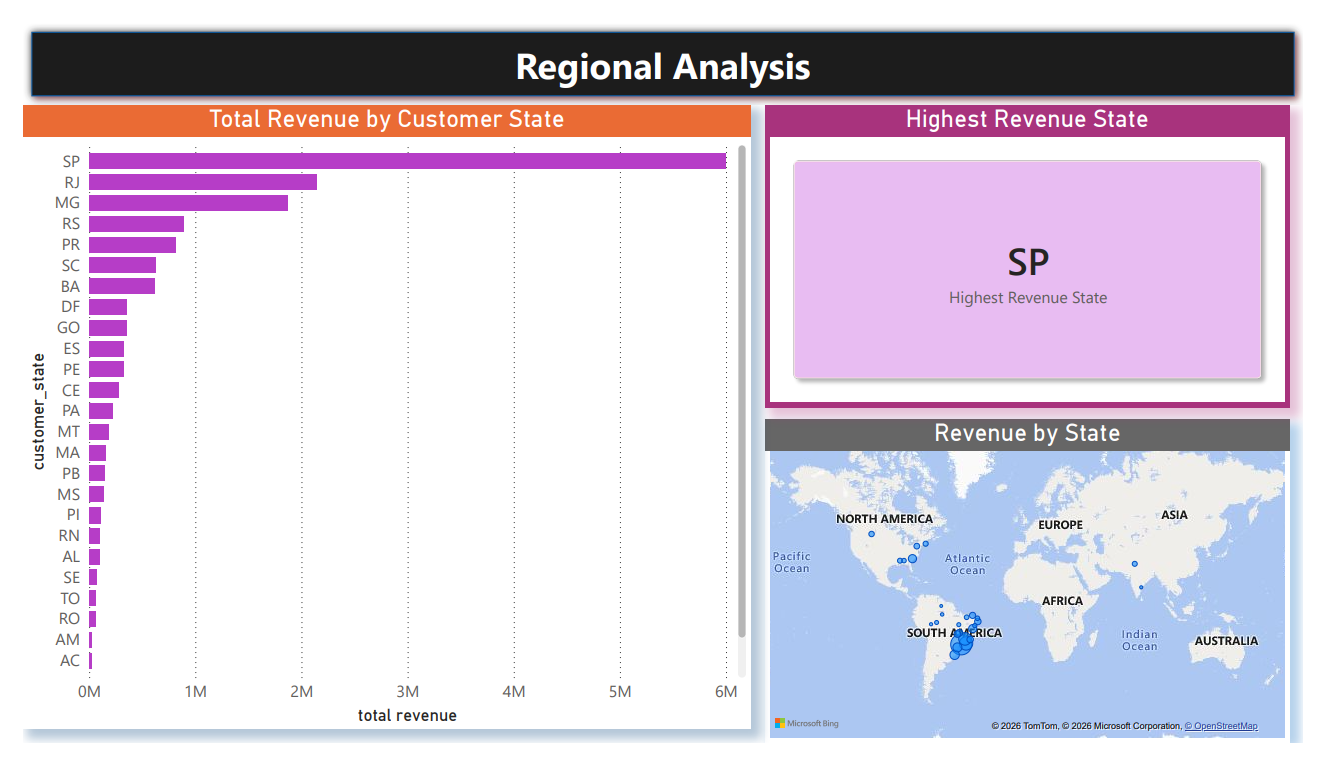

The page's visual inventory and layout, read from the dashboard file:
{"tool":"powerbi","page":{"name":"Regional Analysis","canvas":[1280,720],"ordinal":3},"visuals":[{"type":"map","title":"Revenue by State","fields":{"Category":["state_sales.customer_state"],"Size":["Sum(state_sales.revenue)"]},"box":[742.3,396.2,524.6,324.1],"z":0},{"type":"barChart","title":"Total Revenue by Customer State","fields":{"Category":["state_sales.customer_state"],"Y":["Sum(state_sales.revenue)"]},"box":[0,81.9,727.6,623.6],"z":1000},{"type":"cardVisual","title":"Highest Revenue State","fields":{"Data":["customer_retention_analysis.Highest Revenue State"]},"box":[742.3,81.9,524.6,303.3],"z":2000},{"type":"shape","box":[0,0,1280.3,81.9],"z":3000}]}

Visuals, with their boxes in screenshot pixels (x1, y1, x2, y2), scaled from the page's 1280x720 canvas onto the 1322x762 screenshot:
"Revenue by State" map: {"left": 767, "top": 419, "right": 1308, "bottom": 761}
"Total Revenue by Customer State" barChart: {"left": 0, "top": 87, "right": 751, "bottom": 747}
"Highest Revenue State" cardVisual: {"left": 767, "top": 87, "right": 1308, "bottom": 408}
shape: {"left": 0, "top": 0, "right": 1321, "bottom": 87}
